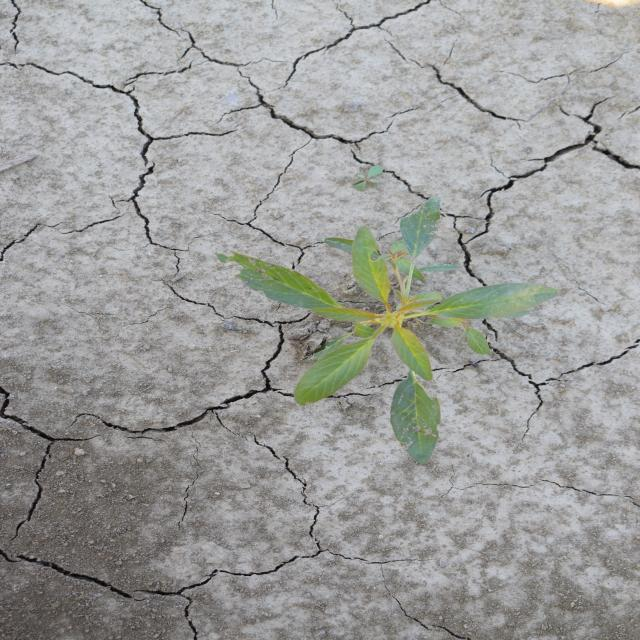Waterhemp: (213, 195, 561, 465)
